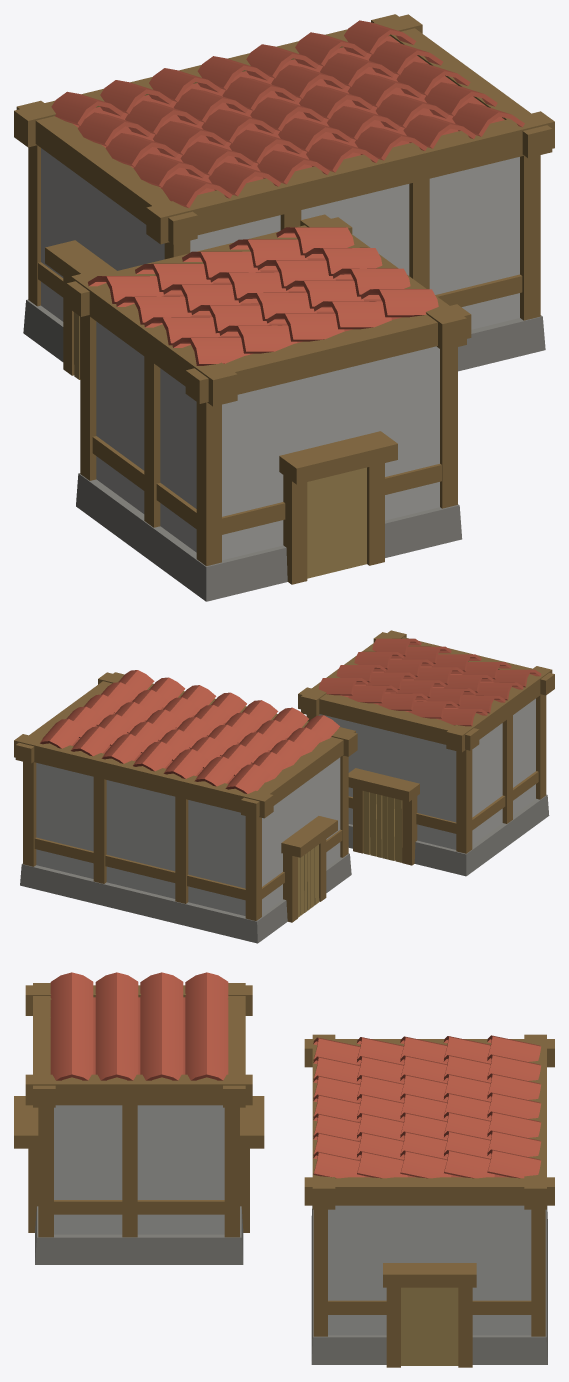
File: Houses_SecondAge_3_Level2.glb
3 views of the same model, one above another, from view 1: azimuth 30°, elevation 25°; view 2: azimuth 150°, elevation 25°; view 3: azimuth 270°, elevation 25° (orthographic). The views are drawn at different scales.
Parts seen in each view (by area): view 1: Houses_SecondAge_3_Level2; view 2: Houses_SecondAge_3_Level2; view 3: Houses_SecondAge_3_Level2.
Boxes of the visible parts, x1,y1,x2,y2 form: Houses_SecondAge_3_Level2: [14, 14, 554, 601]; Houses_SecondAge_3_Level2: [14, 630, 554, 943]; Houses_SecondAge_3_Level2: [14, 972, 554, 1367].
Bounding box in the file's own units: 1.35 × 0.5908 × 1.46.
1 material, 1 textured.
